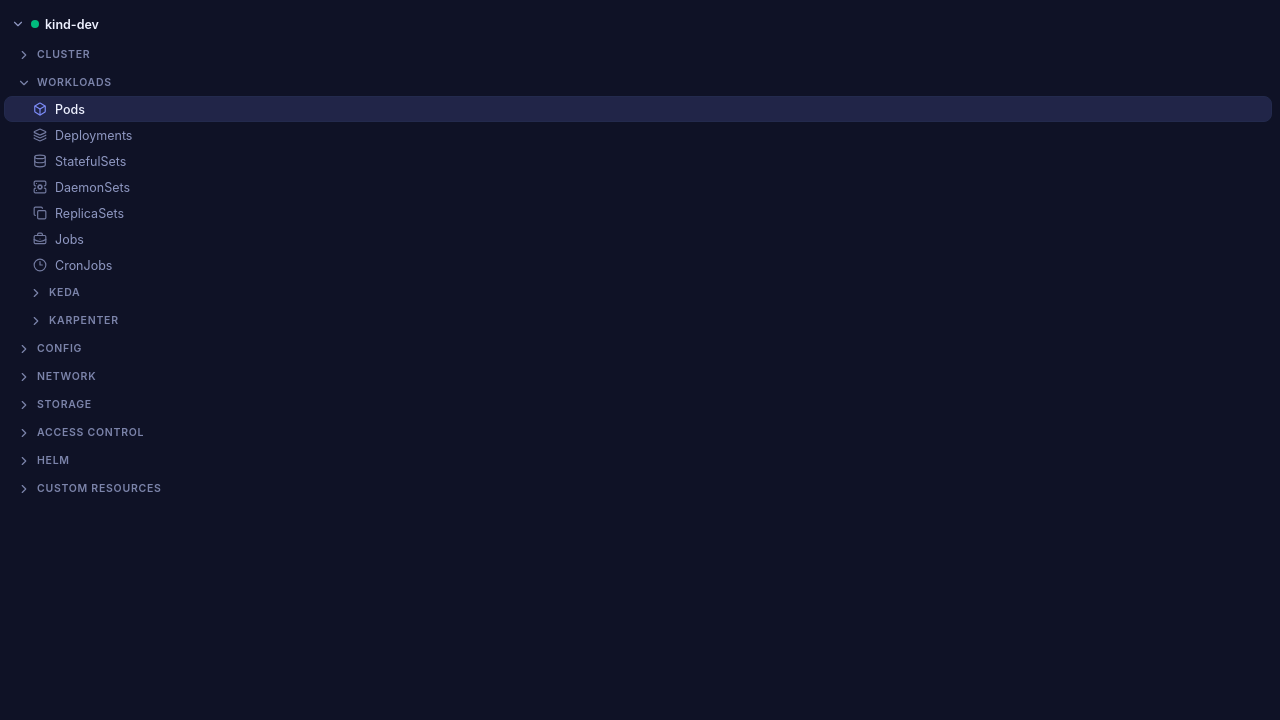
Sidebar › collapses and expands a group
This screenshot has width=1280, height=720.
Expected: the button "Pods" is shown, [4,96,1272,122]
Click the button "Workloads".
click(74, 82)  # box [4,70,1272,96]
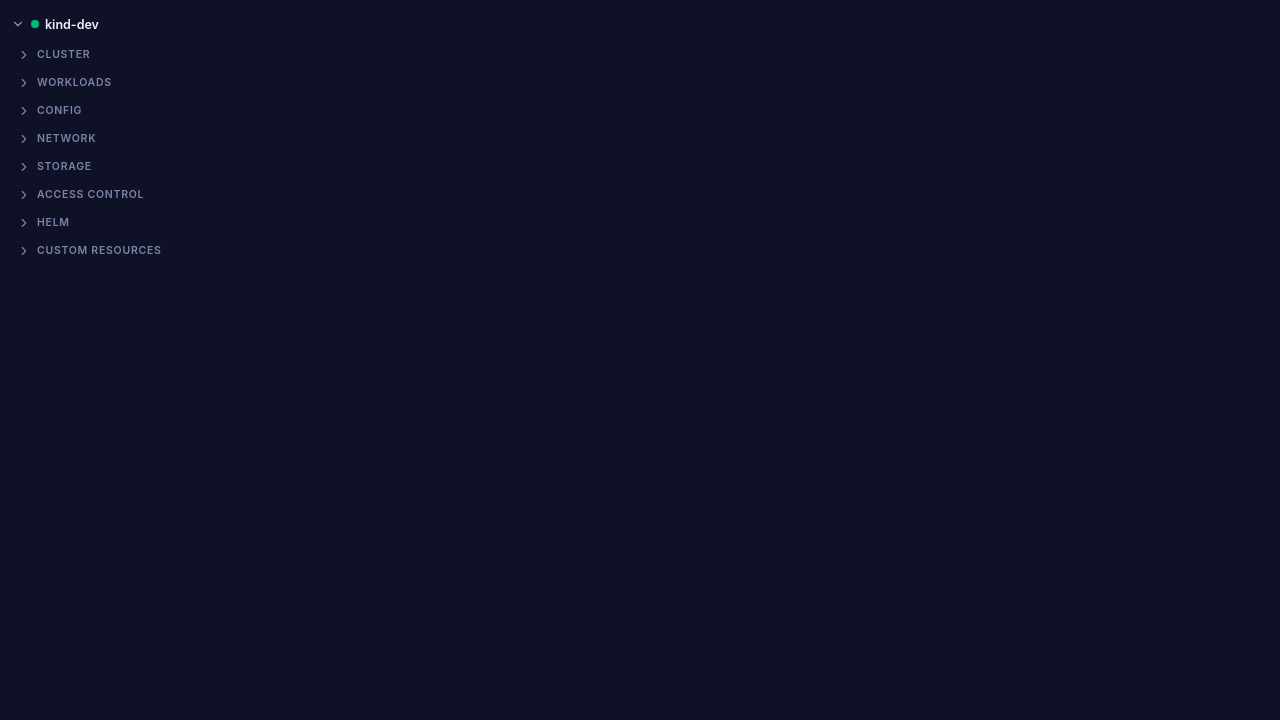
Result: the button "Pods" is gone
Click the button "Workloads".
click(74, 82)  # box [4,70,1272,96]
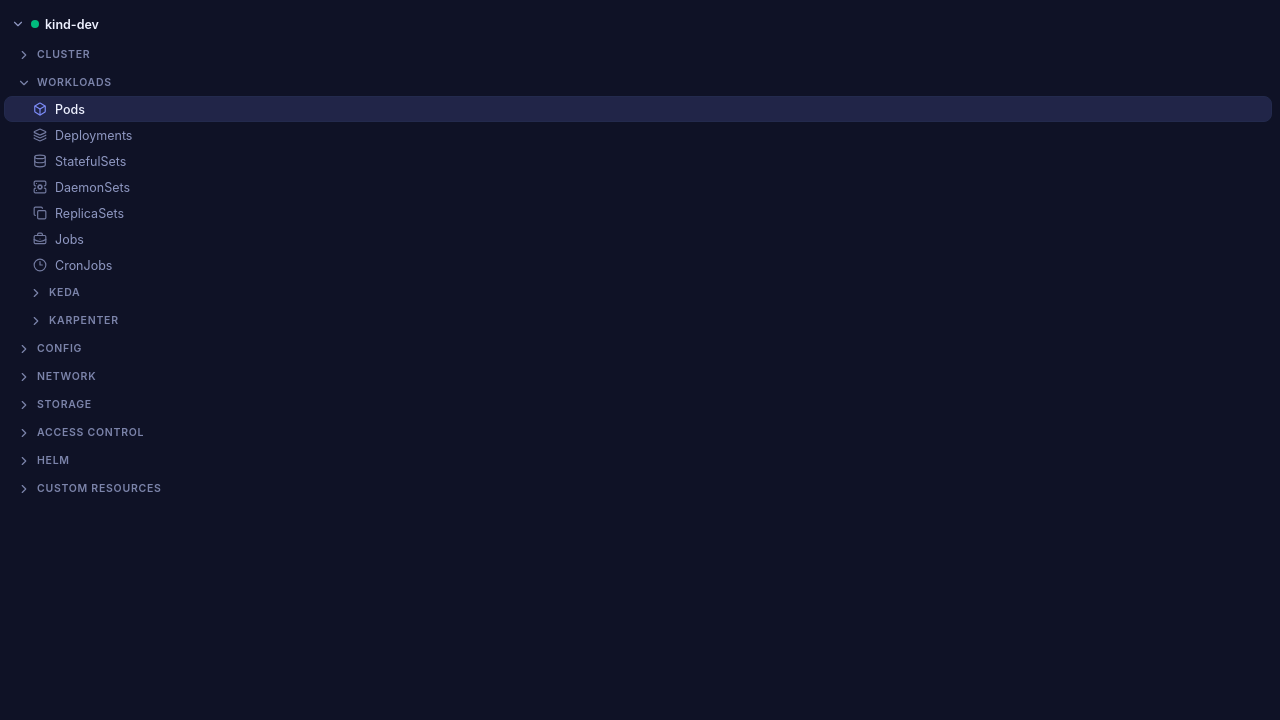
Result: the button "Pods" is shown at [4,96,1272,122]
